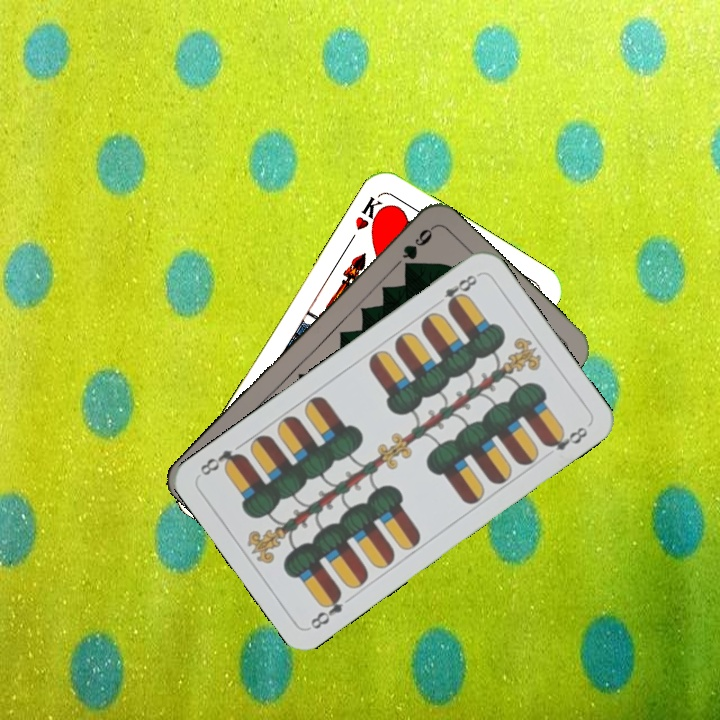E8: (430, 270, 482, 312), (306, 587, 346, 632)
G9: (390, 223, 436, 270)
HK: (345, 191, 390, 245)
